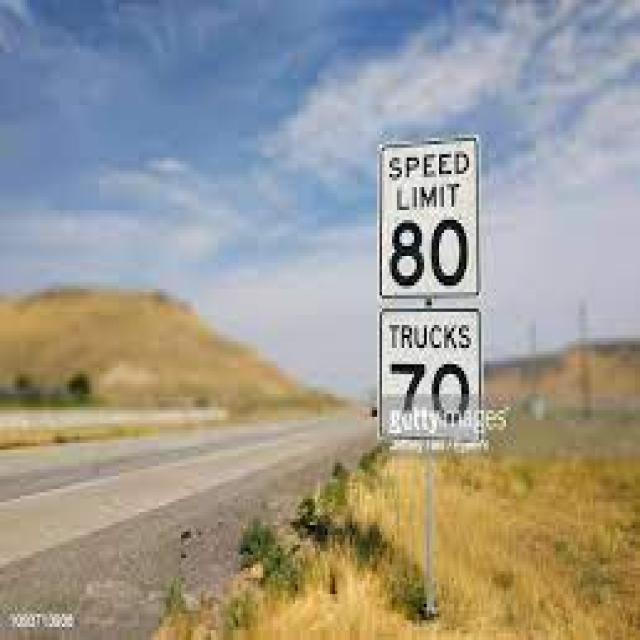speedLimit80: (379, 141, 482, 440)
